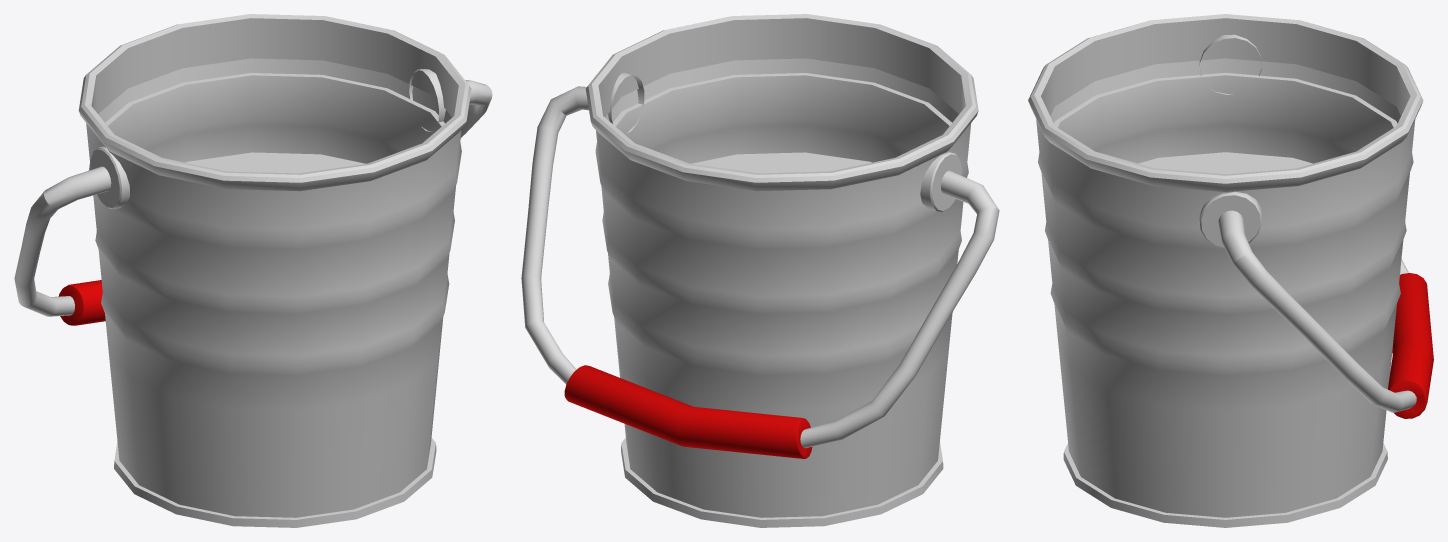
The model's file is Bucket_static.fbx.
3 views of the same model, side by side, from view 1: azimuth 30°, elevation 25°; view 2: azimuth 150°, elevation 25°; view 3: azimuth 270°, elevation 25° (orthographic).
Visible parts, largest first — view 1: Cylinder; view 2: Cylinder; view 3: Cylinder.
Part boxes in pixels (x1,y1,x2,y2): Cylinder: [14, 14, 492, 527]; Cylinder: [521, 14, 999, 527]; Cylinder: [1028, 14, 1433, 527].
Bounding box in the file's own units: 35.04 × 45.2 × 34.72.
